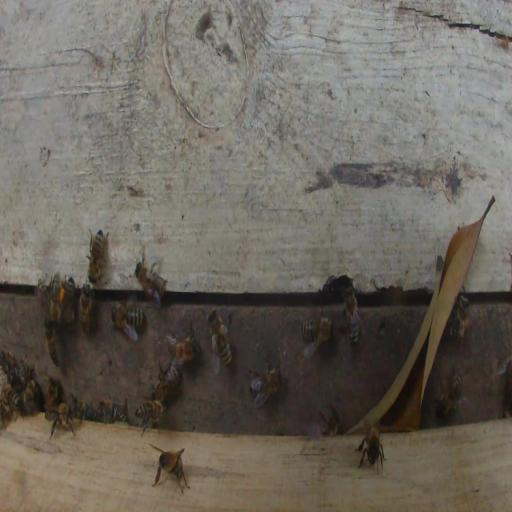nonpollenbee: (151, 444, 189, 494), (245, 364, 285, 408), (207, 308, 233, 371), (133, 257, 167, 305), (111, 302, 147, 340), (299, 313, 334, 351), (435, 373, 463, 420), (446, 292, 470, 342), (135, 398, 166, 436), (154, 361, 182, 403), (86, 227, 106, 284), (46, 401, 75, 439), (167, 328, 199, 362), (343, 285, 360, 345), (78, 283, 94, 338), (1, 347, 25, 383), (19, 379, 41, 415), (319, 405, 343, 437), (44, 321, 60, 369), (1, 384, 20, 424), (360, 429, 379, 466), (44, 375, 59, 411), (63, 278, 74, 327), (38, 279, 50, 321), (73, 399, 96, 420), (102, 404, 127, 423)
pollenbee: (49, 273, 65, 325)
